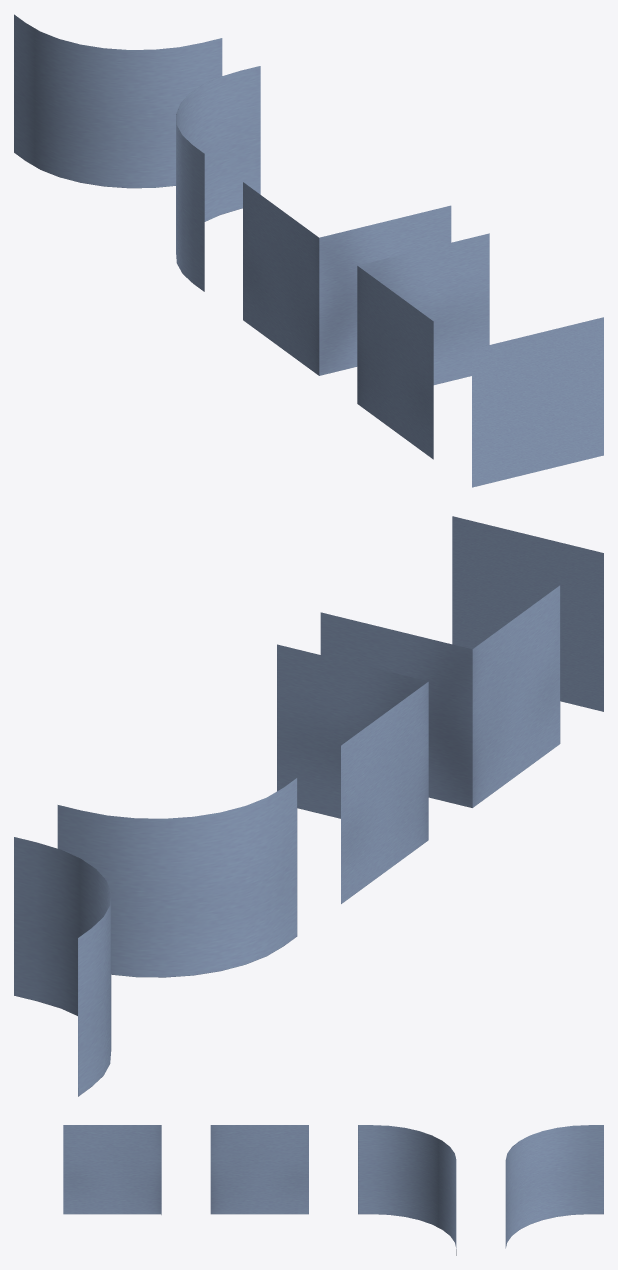
File: whitewalls.fbx
3 views of the same model, one above another, from view 1: azimuth 30°, elevation 25°; view 2: azimuth 150°, elevation 25°; view 3: azimuth 270°, elevation 25° (orthographic). The views are drawn at different scales.
Parts seen in each view (by area): view 1: Wall_WhiteWallCornerSmoothRail.001, Wall_WhiteWallRailCorner90.001, Wall_WhiteWallRailCorner90, Wall_WhiteWallRail, Wall_WhiteWallCornerSmoothRail; view 2: Wall_WhiteWallCornerSmoothRail, Wall_WhiteWallRailCorner90, Wall_WhiteWallRailCorner90.001, Wall_WhiteWallCornerSmoothRail.001, Wall_WhiteWallRail; view 3: Wall_WhiteWallRailCorner90.001, Wall_WhiteWallCornerSmoothRail, Wall_WhiteWallRailCorner90, Wall_WhiteWallCornerSmoothRail.001.
Boxes of the visible parts, left/top/right/bottom form: Wall_WhiteWallCornerSmoothRail.001: left=14, top=14, right=222, bottom=188; Wall_WhiteWallRailCorner90.001: left=357, top=233, right=489, bottom=459; Wall_WhiteWallRailCorner90: left=243, top=182, right=451, bottom=375; Wall_WhiteWallRail: left=472, top=317, right=603, bottom=487; Wall_WhiteWallCornerSmoothRail: left=176, top=66, right=260, bottom=291; Wall_WhiteWallCornerSmoothRail: left=57, top=778, right=297, bottom=977; Wall_WhiteWallRailCorner90: left=277, top=644, right=428, bottom=903; Wall_WhiteWallRailCorner90.001: left=320, top=585, right=560, bottom=807; Wall_WhiteWallCornerSmoothRail.001: left=14, top=837, right=111, bottom=1096; Wall_WhiteWallRail: left=452, top=516, right=603, bottom=711; Wall_WhiteWallRailCorner90.001: left=63, top=1125, right=161, bottom=1214; Wall_WhiteWallCornerSmoothRail: left=358, top=1125, right=456, bottom=1255; Wall_WhiteWallRailCorner90: left=210, top=1125, right=308, bottom=1214; Wall_WhiteWallCornerSmoothRail.001: left=505, top=1125, right=603, bottom=1248.
Bounding box in the file's own units: 200 × 200 × 1200.
1 material, 1 textured.
